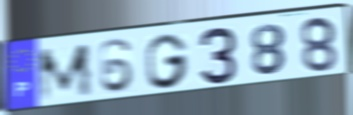3: (196, 24, 239, 87)
6: (98, 37, 134, 96)
8: (300, 15, 339, 74), (250, 22, 288, 78)
G: (144, 32, 190, 91)
M: (36, 41, 96, 104)
